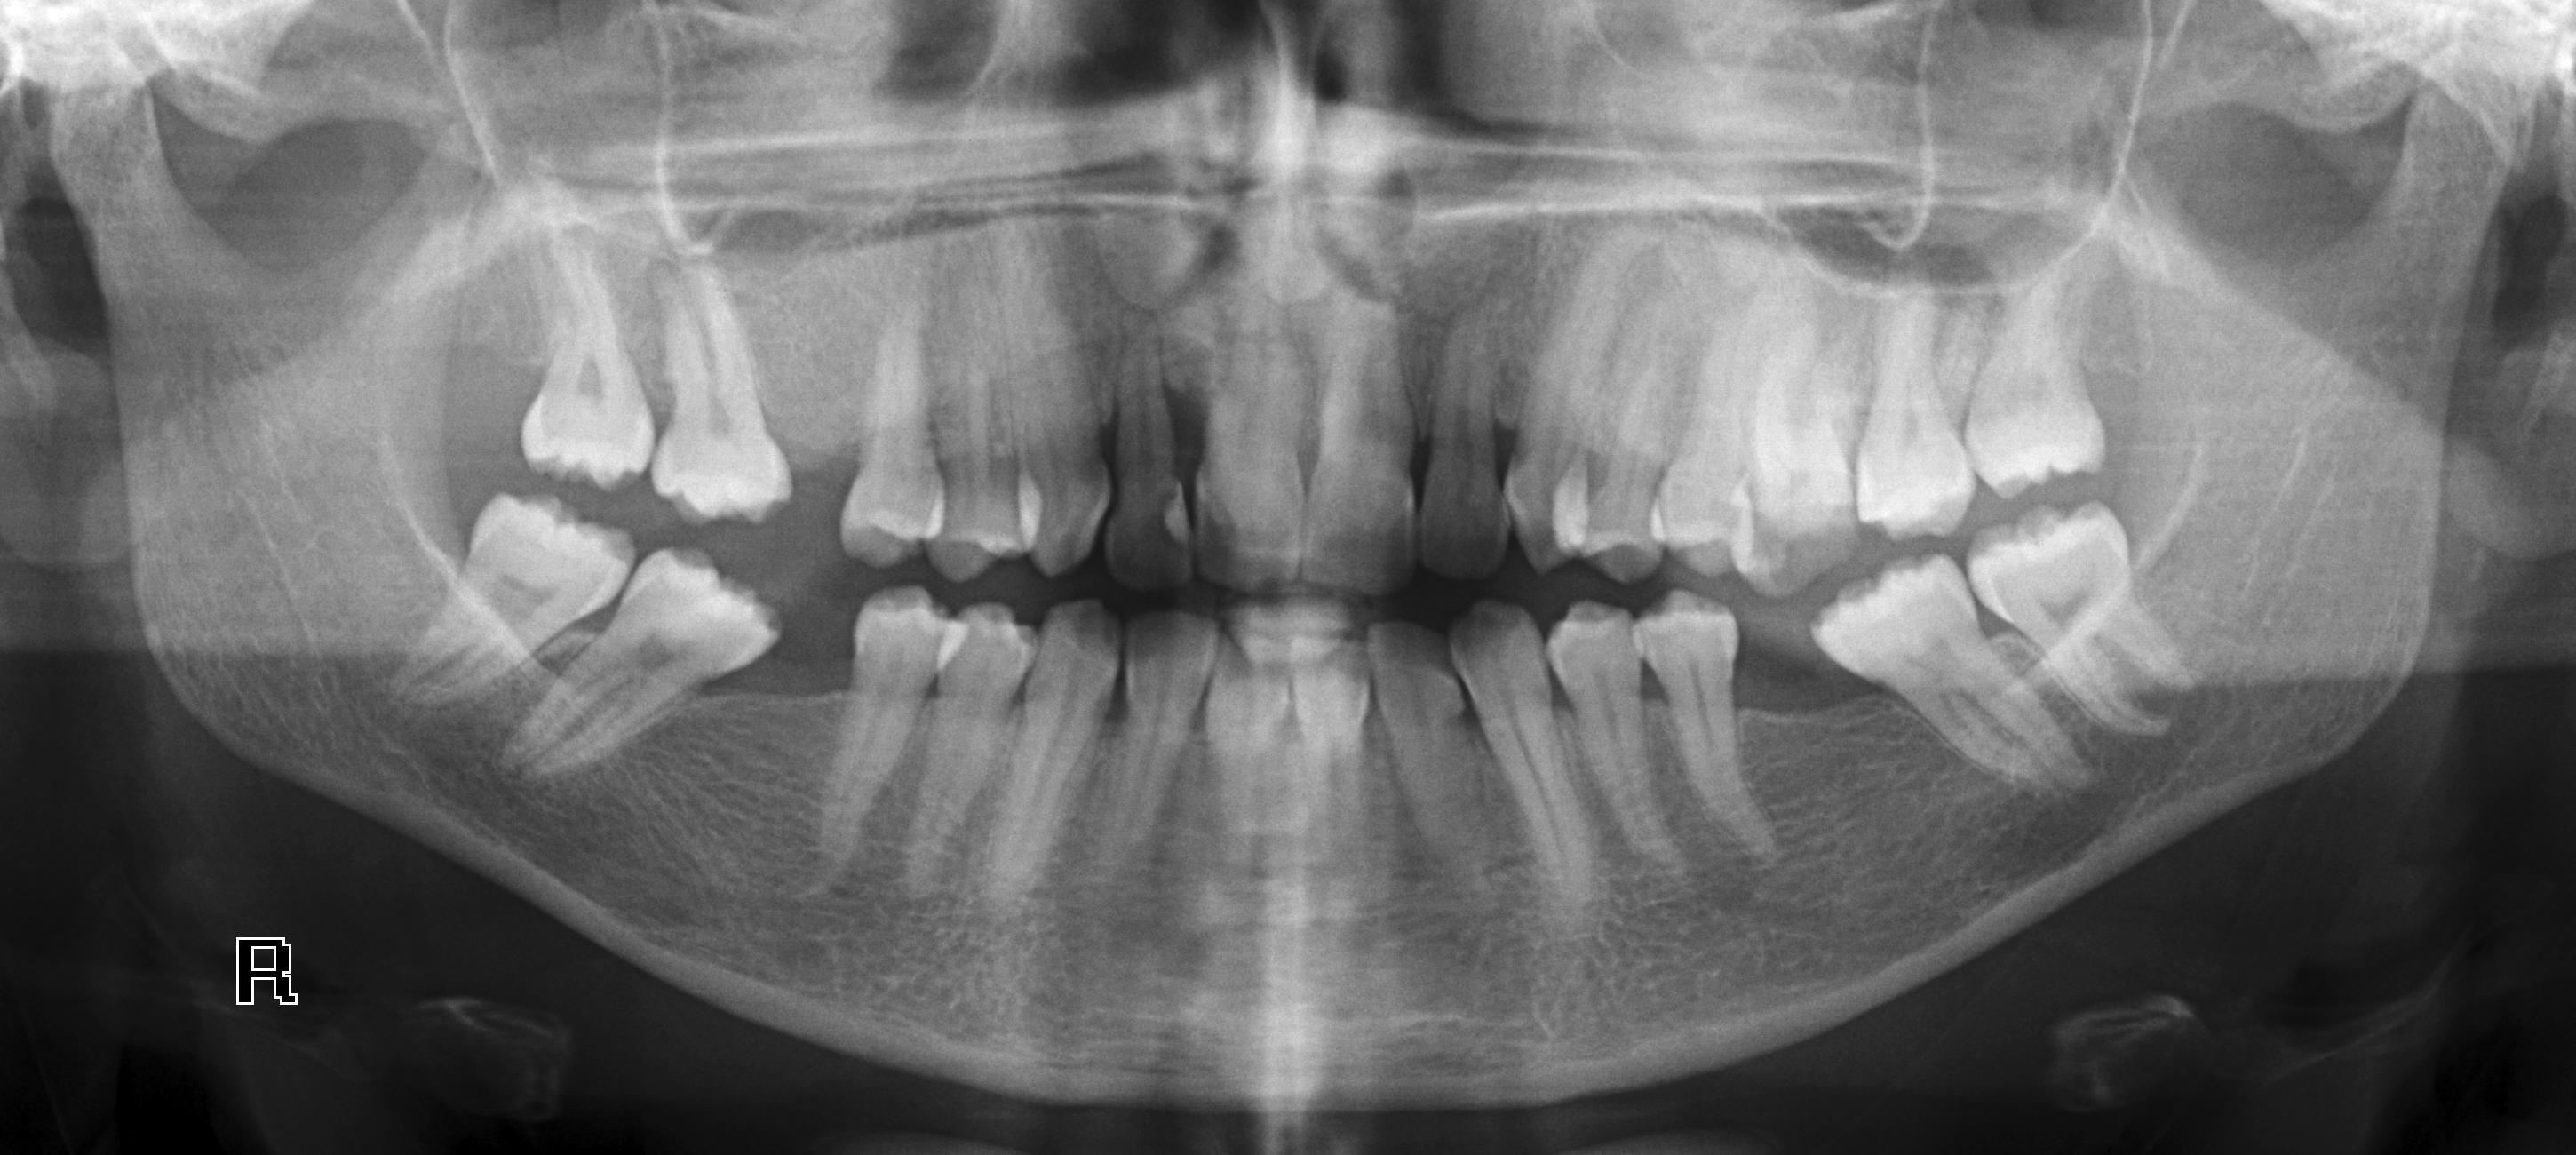Çürük: (1171, 481, 1196, 570)
Çürük Bölgesi: (1198, 491, 1237, 585), (1140, 495, 1171, 559)
